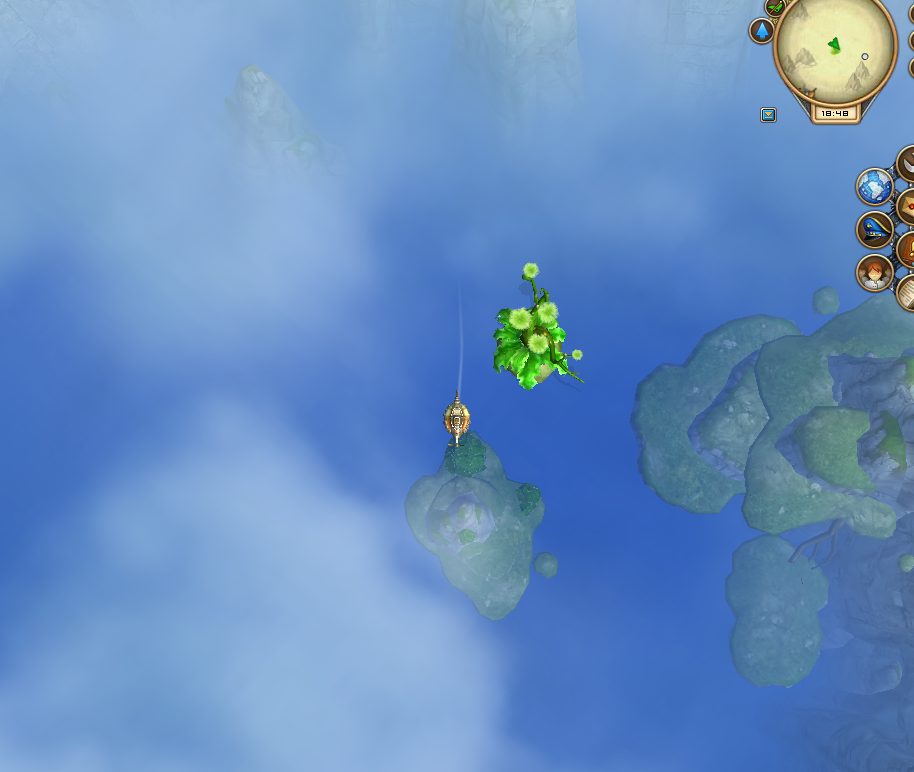dandelion-full: (490, 260, 591, 401)
